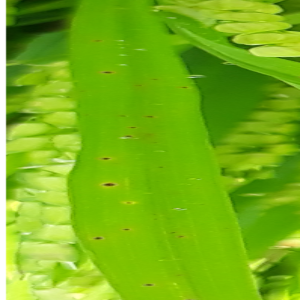Brown_Spot: (95, 176, 123, 192), (94, 149, 116, 166), (153, 252, 171, 267), (119, 196, 141, 208), (96, 67, 118, 78), (140, 278, 155, 291), (152, 161, 168, 173), (89, 35, 107, 45), (90, 233, 107, 243), (118, 223, 134, 233), (140, 112, 157, 121), (114, 112, 131, 121), (141, 130, 158, 139), (174, 232, 189, 242), (220, 224, 234, 234), (120, 132, 137, 140), (176, 83, 191, 92), (172, 271, 188, 279), (126, 123, 140, 132), (167, 227, 178, 238), (132, 81, 146, 89), (82, 111, 92, 121), (196, 200, 208, 208), (148, 76, 161, 83), (149, 211, 160, 217), (149, 140, 161, 145), (152, 216, 159, 223), (183, 296, 193, 300)
